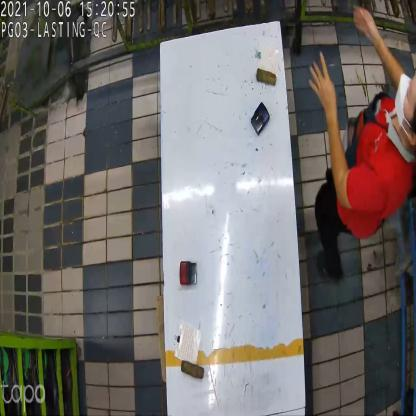stamp: (252, 102, 271, 137), (179, 257, 197, 287)
